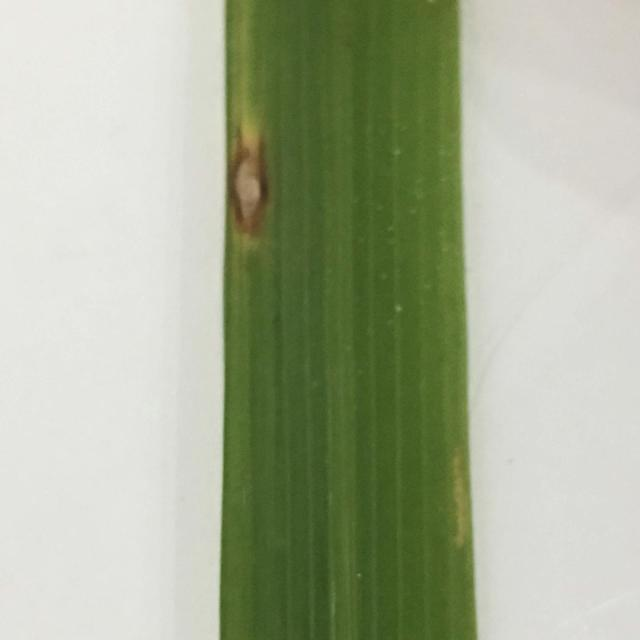Leaf blast: (226, 124, 296, 274)
